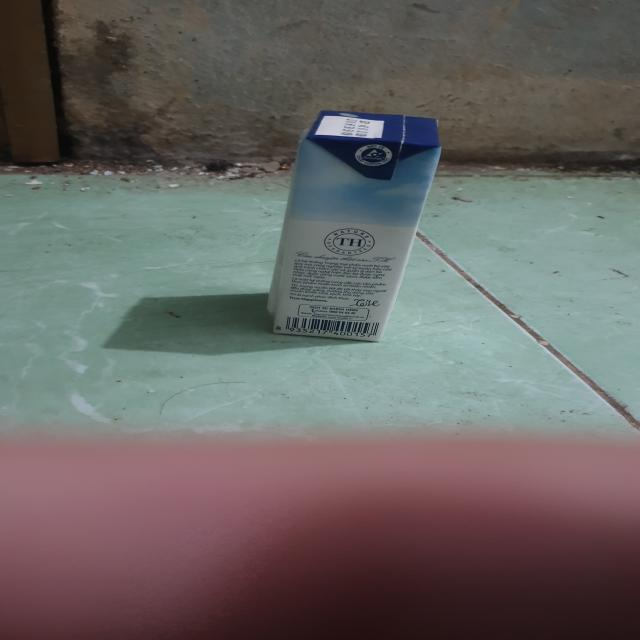TH: (269, 109, 447, 342)
